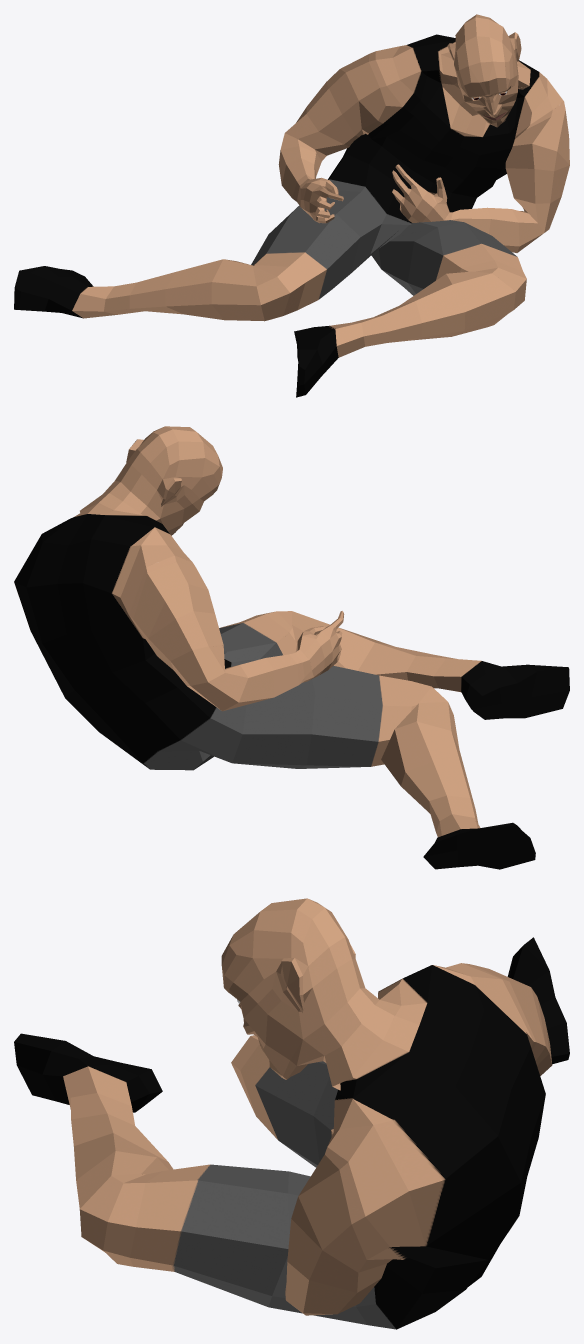
The model's file is PlayerDead(42).obj.
3 renders of one model, top to bottom at view 1: azimuth 30°, elevation 25°; view 2: azimuth 150°, elevation 25°; view 3: azimuth 270°, elevation 25°, orthographic. The views are drawn at different scales.
Parts seen in each view (by area): view 1: Plane002; view 2: Plane002; view 3: Plane002.
Part boxes in pixels (box(x1,y1,x2,y2)): Plane002: box(14, 14, 569, 397); Plane002: box(14, 426, 569, 869); Plane002: box(14, 898, 569, 1329).
Size of the model in its own units: 1398 by 739 by 849.
